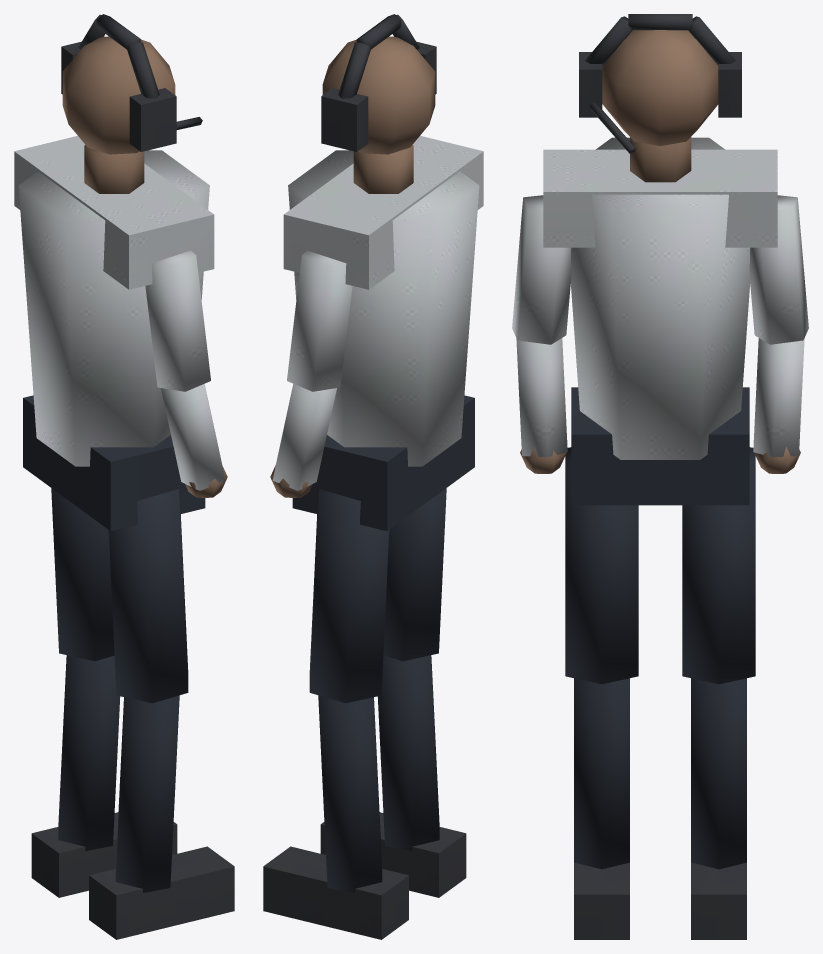
The model's file is crew-engineer-standing_mobile.glb.
3 views of the same model, side by side, from view 1: azimuth 30°, elevation 25°; view 2: azimuth 150°, elevation 25°; view 3: azimuth 270°, elevation 25° (orthographic).
Parts seen in each view (by area): view 1: clothing, dark-fabric, rubber, skin; view 2: clothing, dark-fabric, rubber, skin; view 3: clothing, dark-fabric, skin, rubber.
Boxes of the visible parts, x1,y1,x2,y2 form: clothing: [14, 136, 225, 490]; dark-fabric: [23, 395, 205, 892]; rubber: [31, 14, 234, 939]; skin: [62, 36, 227, 497]; clothing: [272, 135, 483, 490]; dark-fabric: [292, 395, 474, 892]; rubber: [263, 14, 466, 939]; skin: [270, 36, 435, 497]; clothing: [512, 137, 808, 459]; dark-fabric: [565, 387, 755, 869]; skin: [520, 30, 800, 473]; rubber: [574, 14, 746, 939].
Bounding box in the file's own units: 0.3166 × 1.76 × 0.5325.
4 materials, 3 textured.
